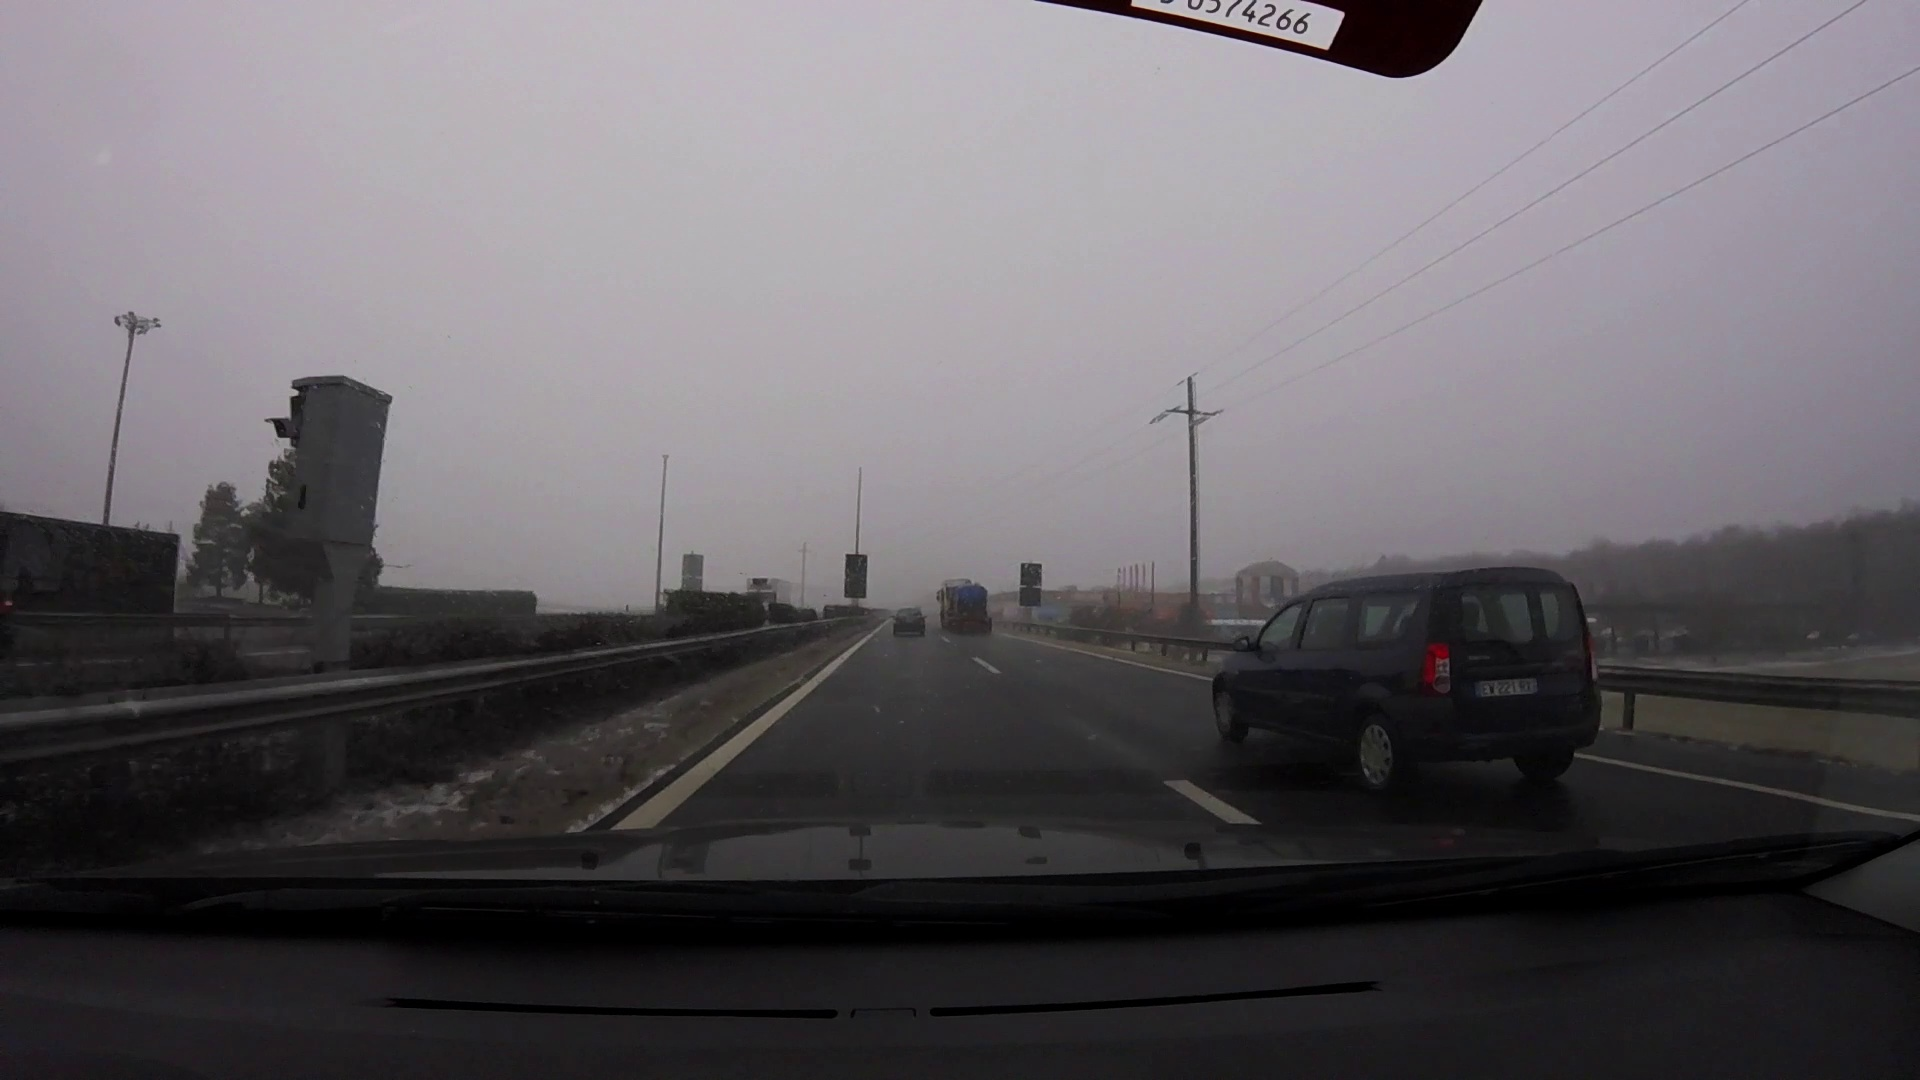radar: (262, 372, 396, 621)
